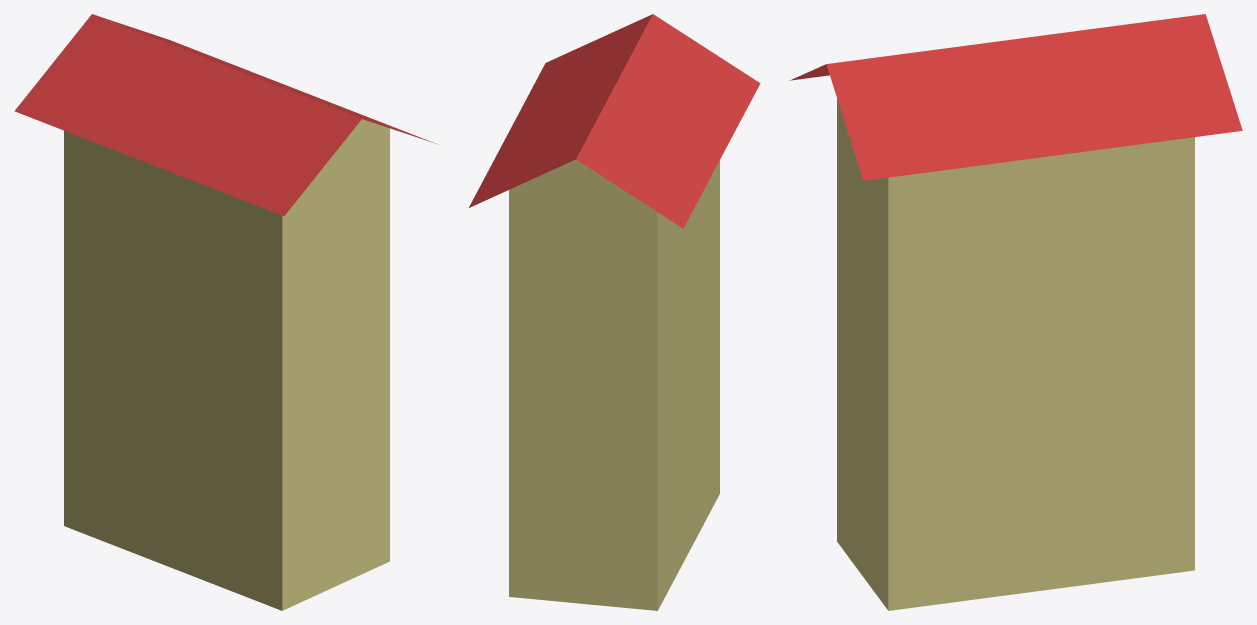
3 views of the same model, side by side, from view 1: azimuth 30°, elevation 25°; view 2: azimuth 150°, elevation 25°; view 3: azimuth 270°, elevation 25° (orthographic). The views are drawn at different scales.
Visible parts, largest first — view 1: group_5, group_3, group_4; view 2: group_5, group_3, group_4; view 3: group_5, group_3, group_4.
Part boxes in pixels (box(x1,y1,x2,y2)): group_5: box(64, 119, 389, 610); group_3: box(64, 14, 385, 175); group_4: box(14, 14, 437, 215); group_5: box(509, 159, 719, 610); group_3: box(469, 14, 719, 219); group_4: box(469, 14, 760, 228); group_5: box(837, 98, 1194, 610); group_3: box(790, 14, 1242, 172); group_4: box(826, 14, 1241, 180).
Bounding box in the file's own units: 6.99 × 8.91 × 11.21.
